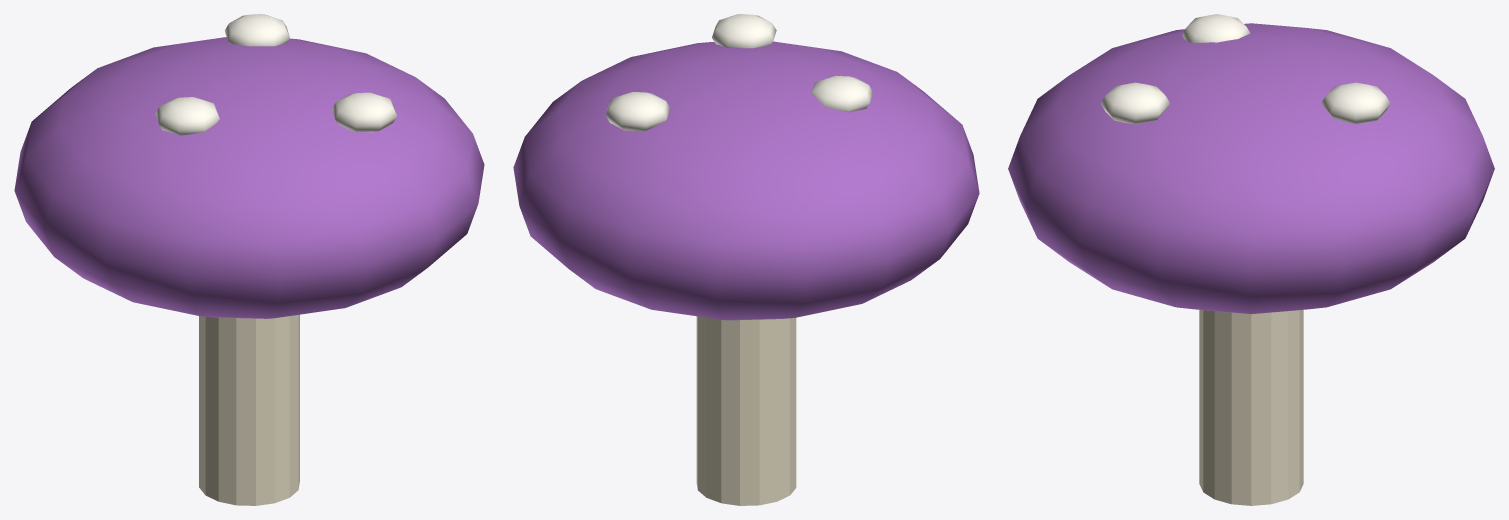
The model's file is mushroom.glb.
3 views of the same model, side by side, from view 1: azimuth 30°, elevation 25°; view 2: azimuth 150°, elevation 25°; view 3: azimuth 270°, elevation 25° (orthographic). The views are drawn at different scales.
Parts seen in each view (by area): view 1: mushroom; view 2: mushroom; view 3: mushroom.
Part boxes in pixels (left/top/right/bottom): mushroom: left=14, top=14, right=484, bottom=505; mushroom: left=513, top=14, right=979, bottom=505; mushroom: left=1008, top=14, right=1494, bottom=505.
Size of the model in its own units: 0.42 by 0.405 by 0.42.
